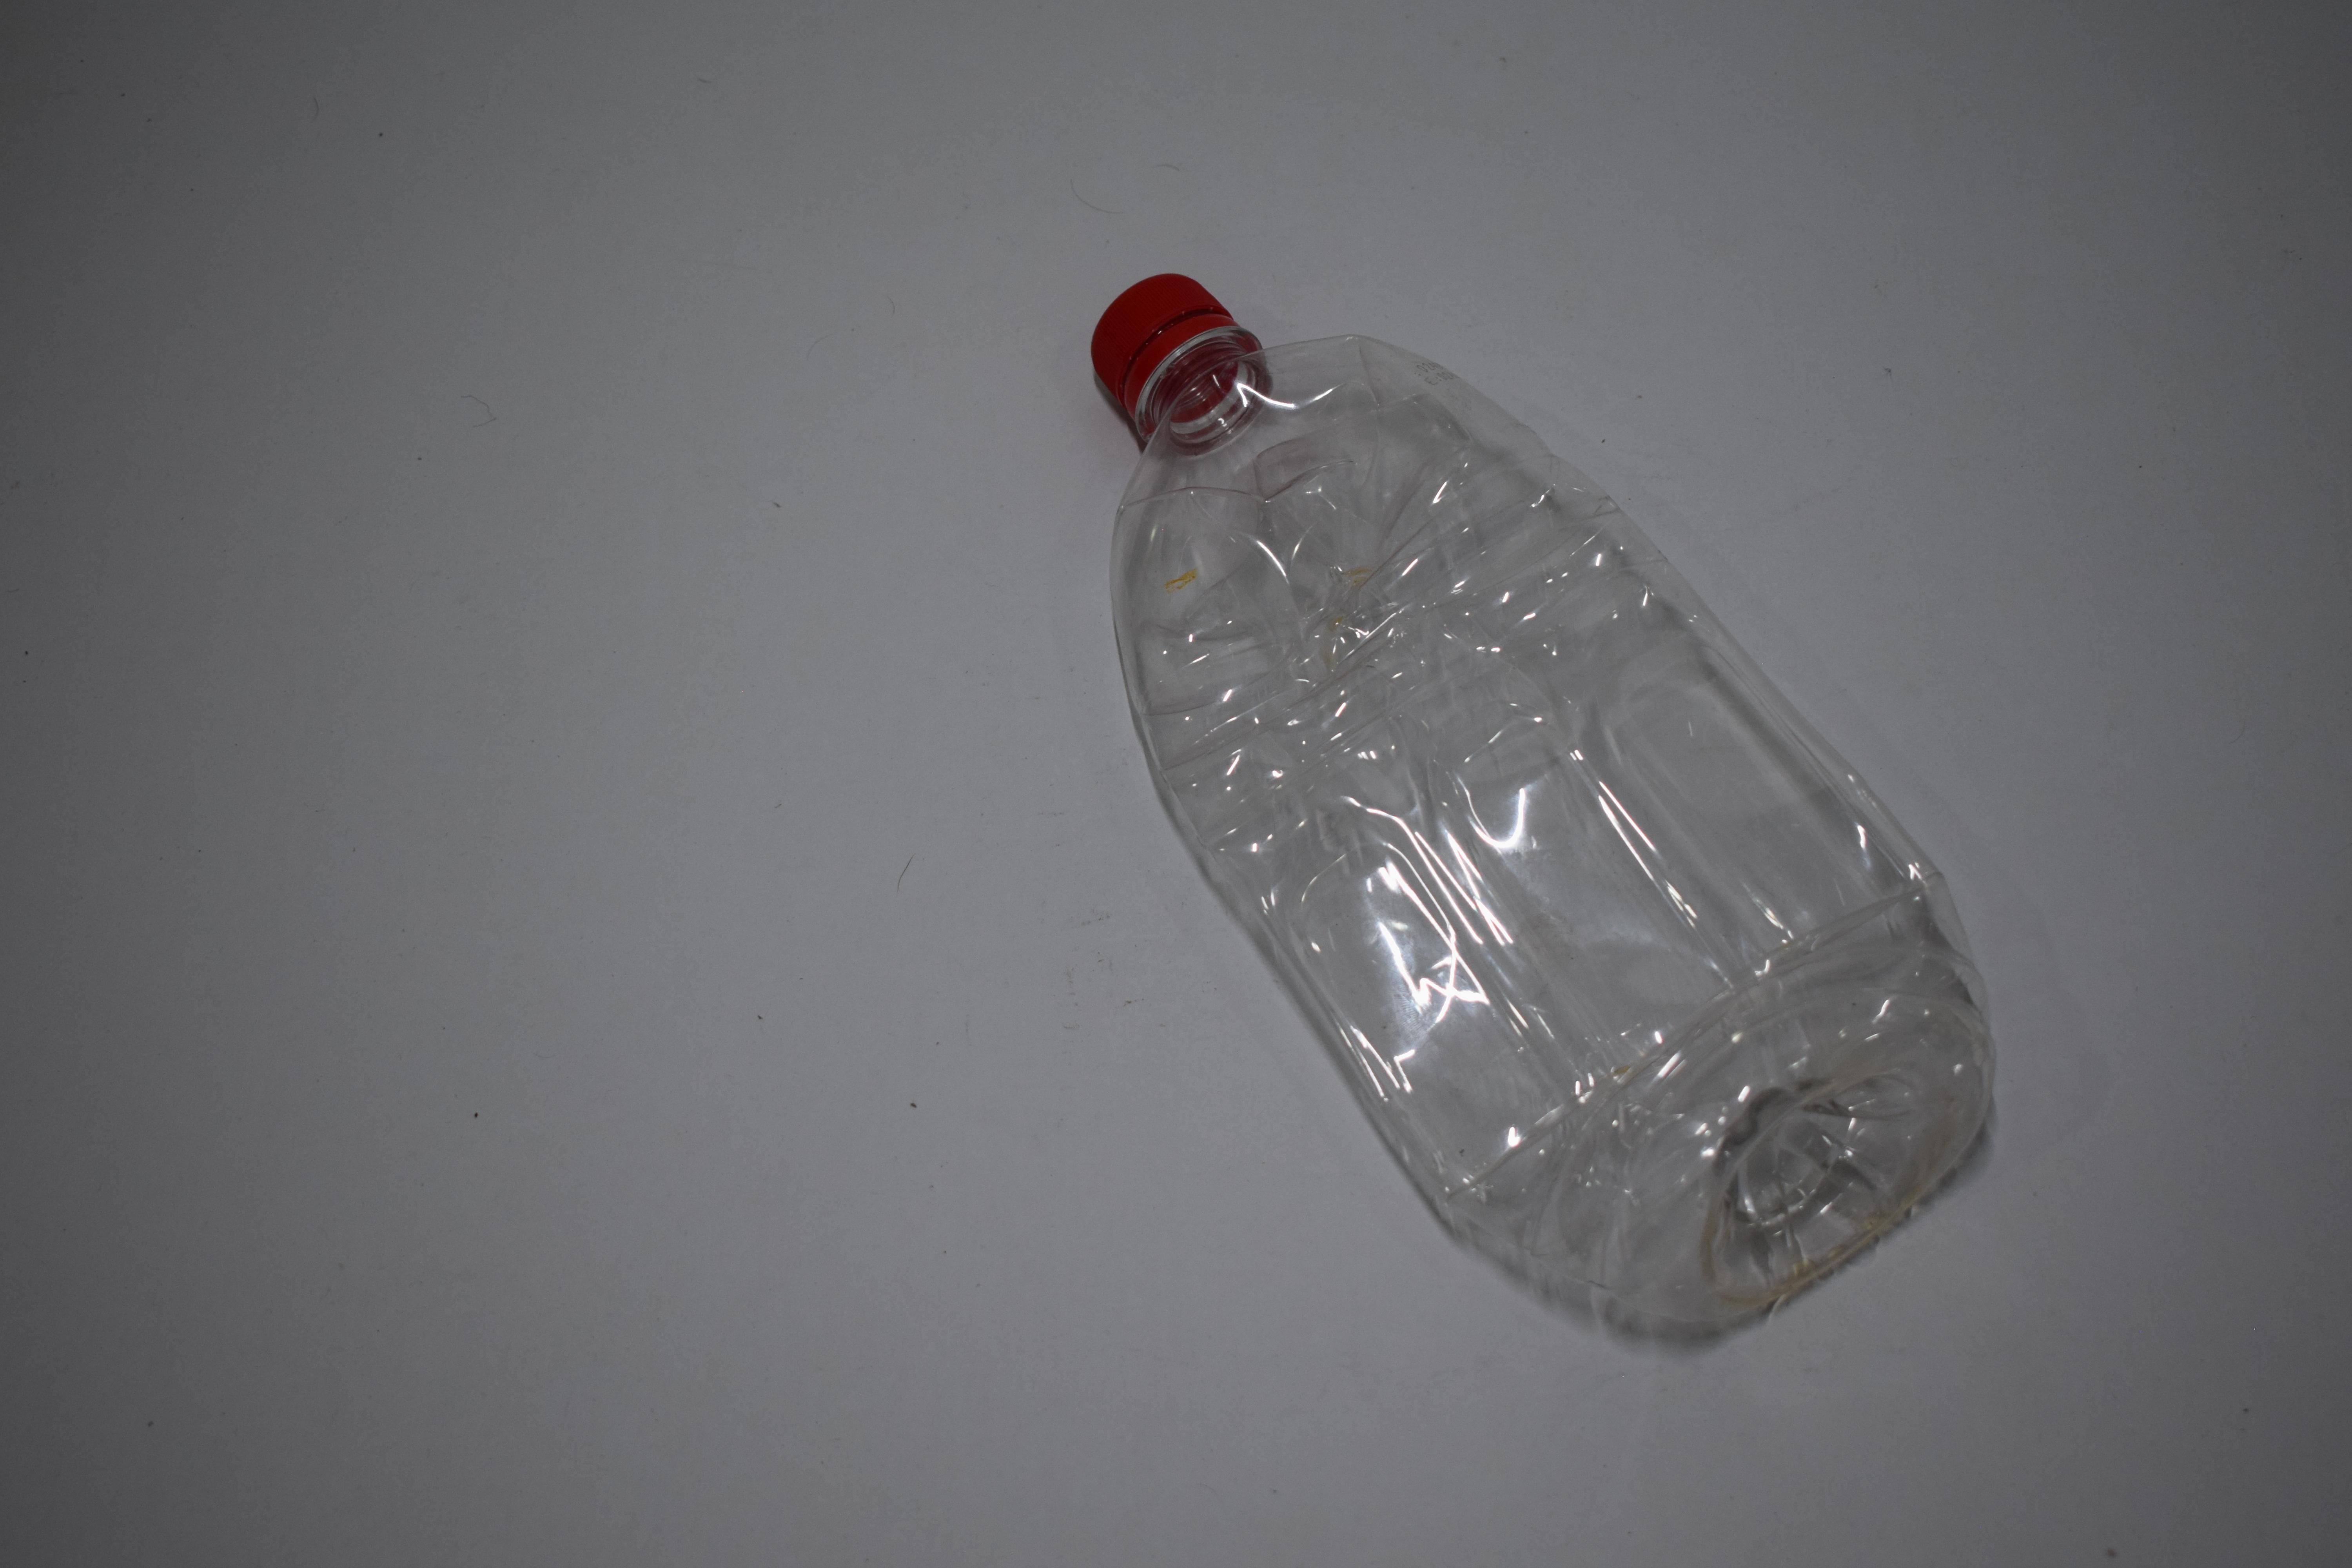bottle: (964, 0, 1890, 576)
